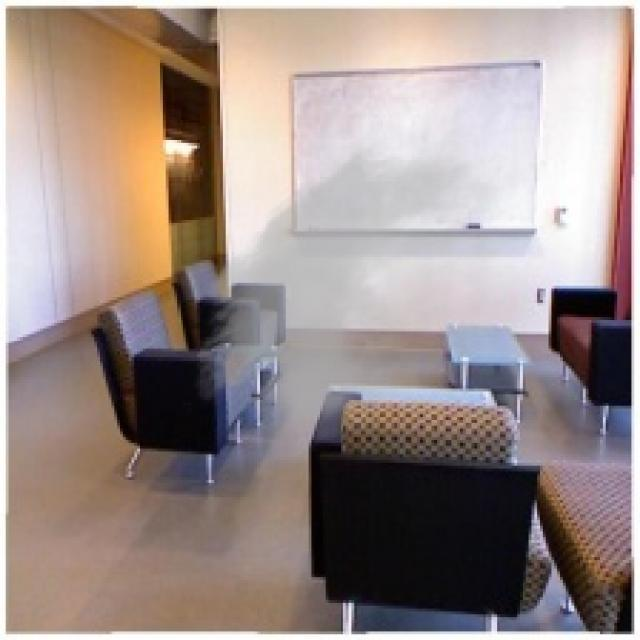Smoke: (182, 106, 548, 457)
